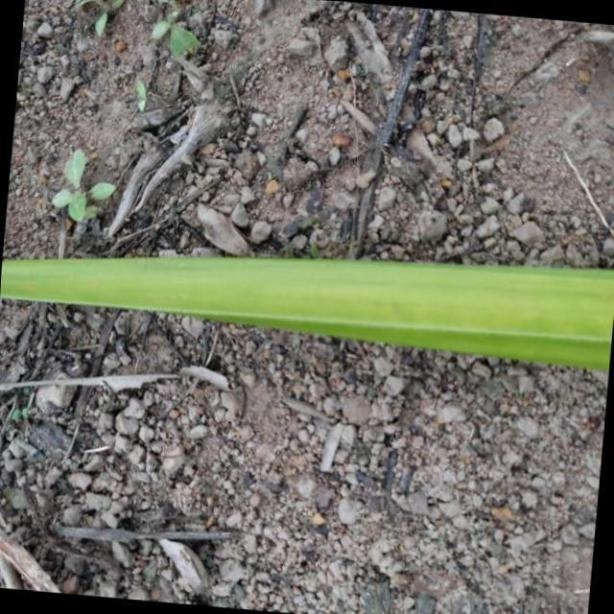nitrogen: (0, 253, 614, 363)
